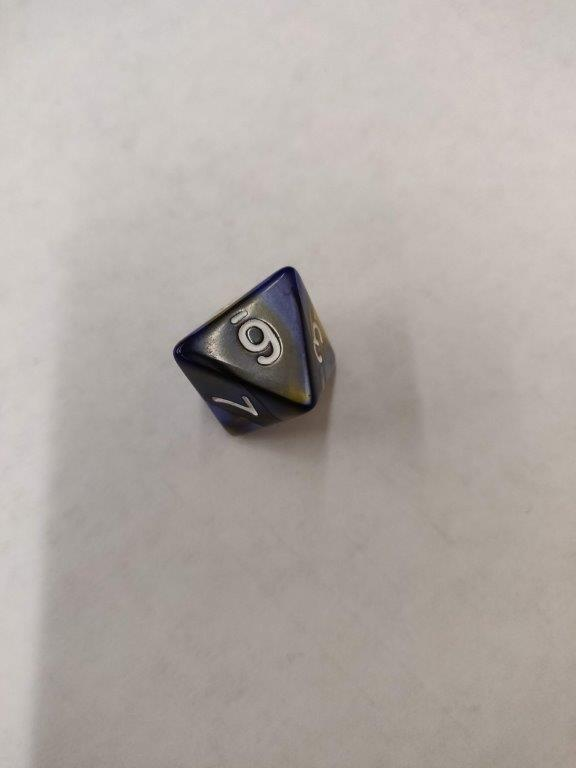d8-6: (172, 264, 334, 439)
